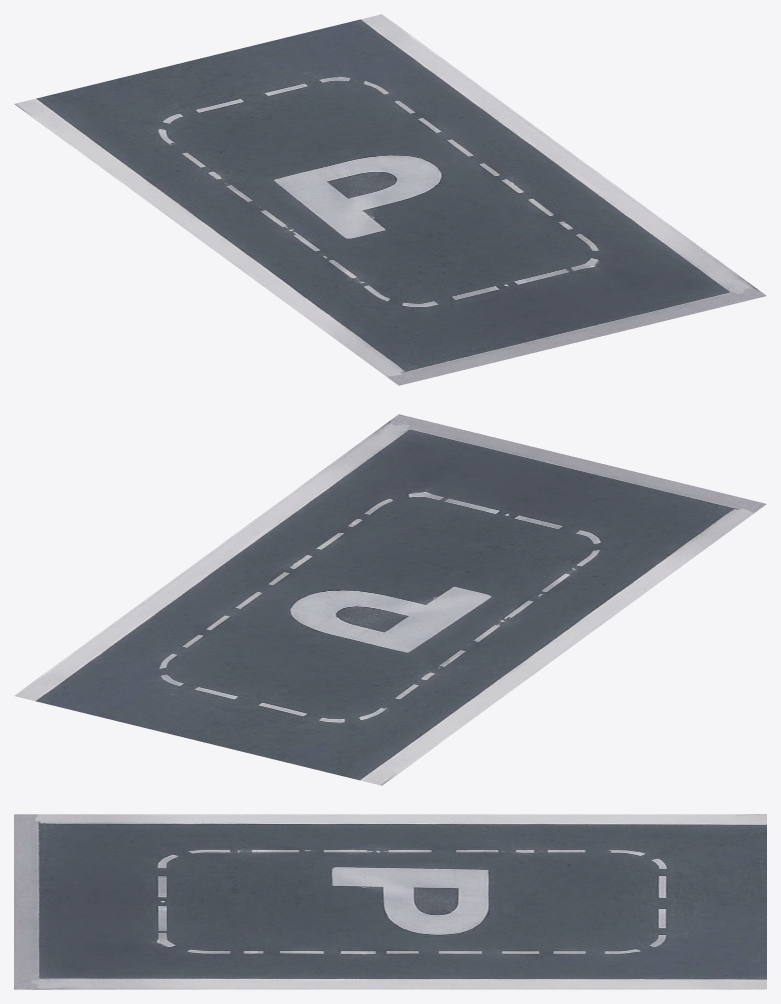
Rendered from slotpark.fbx.
3 views of the same model, one above another, from view 1: azimuth 30°, elevation 25°; view 2: azimuth 150°, elevation 25°; view 3: azimuth 270°, elevation 25° (orthographic). The views are drawn at different scales.
Parts seen in each view (by area): view 1: Plane; view 2: Plane; view 3: Plane.
Part boxes in pixels (bbox=[...]): Plane: bbox=[14, 14, 766, 385]; Plane: bbox=[14, 414, 766, 785]; Plane: bbox=[14, 814, 766, 989].
Size of the model in its own units: 254 by 0 by 460.
